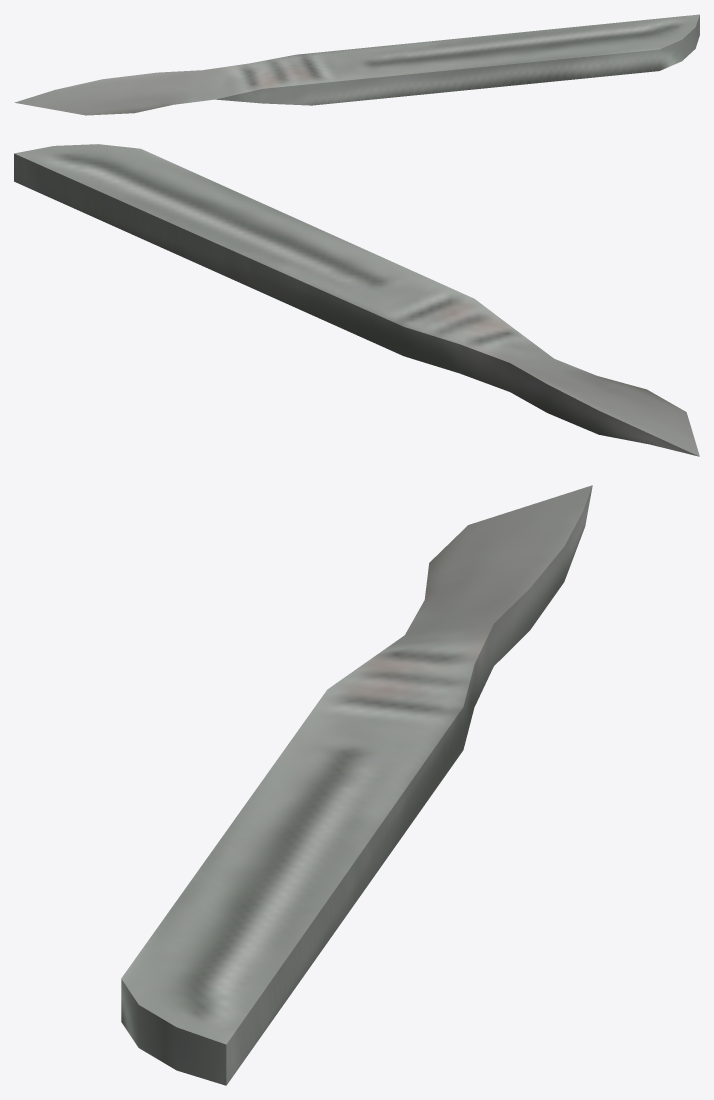
The model's file is CeSuo_01_shoushudao_01.FBX.
The picture shows the model from 3 angles, top to bottom: view 1: azimuth 30°, elevation 25°; view 2: azimuth 150°, elevation 25°; view 3: azimuth 270°, elevation 25°; orthographic projection. The views are drawn at different scales.
Parts seen in each view (by area): view 1: CeSuo_01_shoushudao_01; view 2: CeSuo_01_shoushudao_01; view 3: CeSuo_01_shoushudao_01.
Boxes of the visible parts, x1,y1,x2,y2 form: CeSuo_01_shoushudao_01: (14,14,699,115); CeSuo_01_shoushudao_01: (14,144,699,456); CeSuo_01_shoushudao_01: (121,485,592,1085).
Size of the model in its own units: 107 by 3.72 by 36.78.
